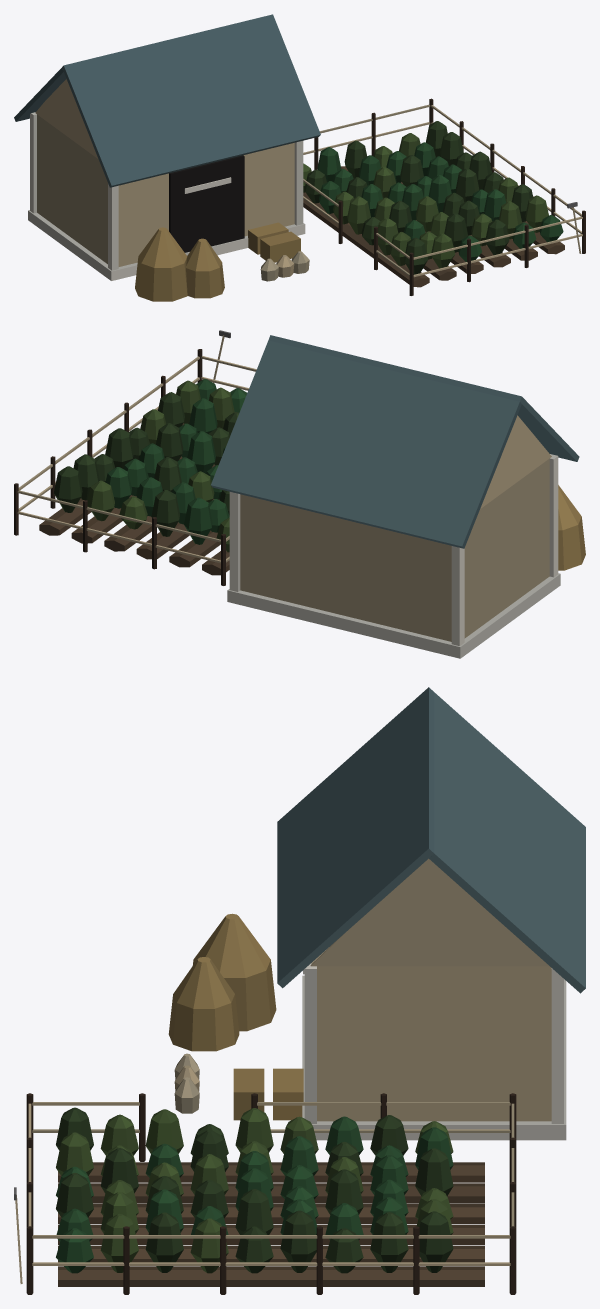
Rendered from walk_veiled_plantation.glb.
The picture shows the model from 3 angles, top to bottom: view 1: azimuth 30°, elevation 25°; view 2: azimuth 150°, elevation 25°; view 3: azimuth 270°, elevation 25°; orthographic projection. The views are drawn at different scales.
Parts seen in each view (by area): view 1: walk_veiled_plantation, walk_veiled_plantation_roof; view 2: walk_veiled_plantation, walk_veiled_plantation_roof; view 3: walk_veiled_plantation, walk_veiled_plantation_roof.
Boxes of the visible parts, x1=… form: walk_veiled_plantation: x1=28, y1=79, x2=585, y2=301; walk_veiled_plantation_roof: x1=14, y1=14, x2=320, y2=187; walk_veiled_plantation: x1=14, y1=330, x2=585, y2=658; walk_veiled_plantation_roof: x1=211, y1=335, x2=579, y2=548; walk_veiled_plantation: x1=14, y1=858, x2=566, y2=1294; walk_veiled_plantation_roof: x1=277, y1=687, x2=585, y2=993.
Size of what is drawn, in the model's own units: 12.85 by 6.04 by 10.18.
2 materials, 2 textured.
